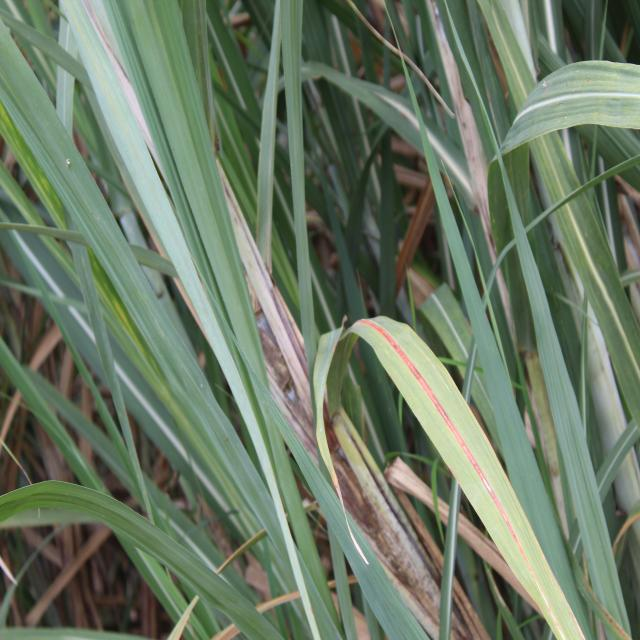Sugarcane: (99, 262, 325, 637), (99, 2, 278, 413), (458, 6, 624, 436), (230, 327, 428, 640), (298, 6, 418, 482), (389, 9, 515, 432), (534, 154, 640, 530), (2, 3, 124, 281), (312, 64, 482, 243), (3, 310, 145, 519), (82, 254, 198, 460), (202, 64, 299, 298), (413, 284, 519, 479), (136, 497, 274, 637), (2, 218, 104, 379), (432, 1, 507, 168), (312, 120, 368, 338), (523, 148, 640, 242), (488, 149, 537, 364), (346, 130, 400, 323), (351, 307, 408, 473), (198, 1, 264, 141), (0, 5, 94, 97), (254, 3, 285, 281), (406, 0, 467, 136), (473, 1, 539, 117), (0, 139, 62, 257), (558, 0, 638, 76), (418, 280, 478, 370), (346, 2, 389, 94)
